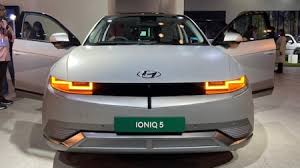Honda Ioniq: (12, 5, 283, 168)
